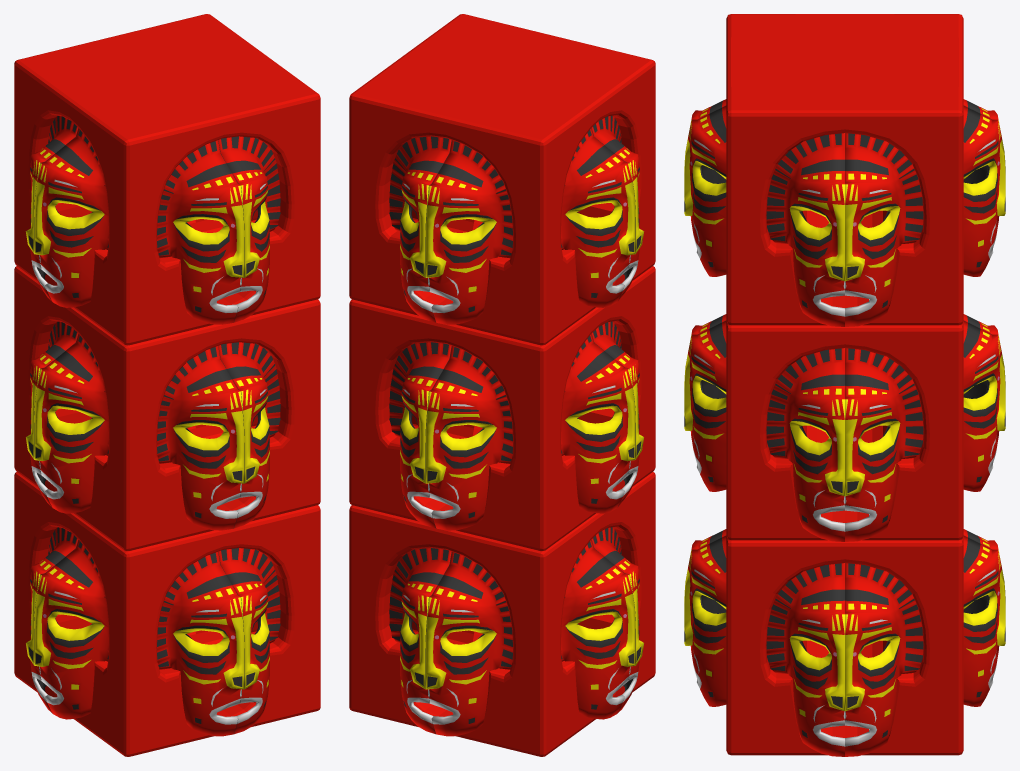
The model's file is PillarsRed.fbx.
3 renders of one model, left to right at view 1: azimuth 30°, elevation 25°; view 2: azimuth 150°, elevation 25°; view 3: azimuth 270°, elevation 25°, orthographic. The views are drawn at different scales.
Visible parts, largest first — view 1: RedCube_3, RedCube_2, RedCube_1; view 2: RedCube_3, RedCube_2, RedCube_1; view 3: RedCube_3, RedCube_1, RedCube_2.
Boxes of the visible parts, x1,y1,x2,y2 form: RedCube_3: (14, 14, 320, 345); RedCube_2: (14, 266, 320, 551); RedCube_1: (14, 472, 320, 756); RedCube_3: (349, 14, 655, 345); RedCube_2: (349, 266, 655, 551); RedCube_1: (349, 472, 655, 756); RedCube_3: (684, 14, 1005, 326); RedCube_1: (684, 529, 1005, 756); RedCube_2: (684, 314, 1005, 541).
Bounding box in the file's own units: 6.78 × 6.78 × 15.
